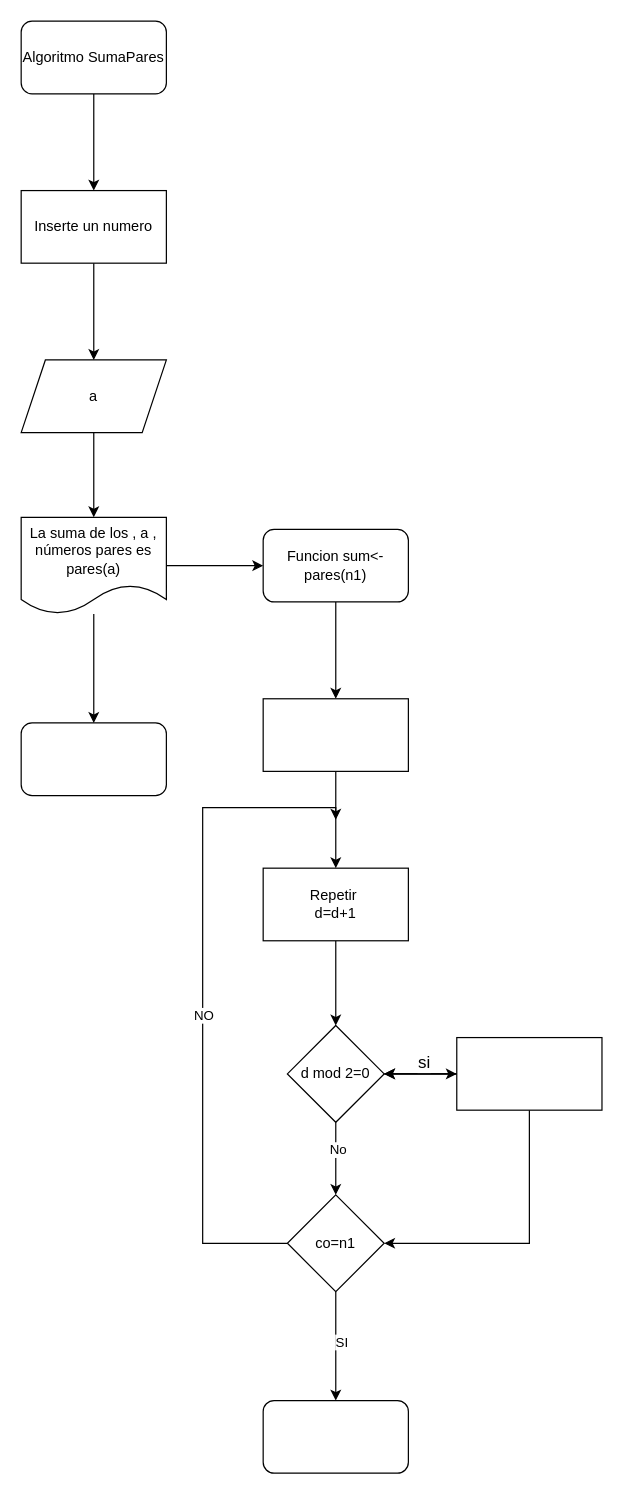
Some shapes in this 623 by 1494 pixel diagram are drawn without their labels. The box of each missing label's shape, as (x1, y1, x2, y2) in pixels:
d=n1: (262, 698, 408, 771)
Fin Algoritmo: (20, 722, 166, 796)
Fin funcion: (262, 1399, 408, 1473)
sum=sum+d co=co+1: (456, 1036, 602, 1110)
